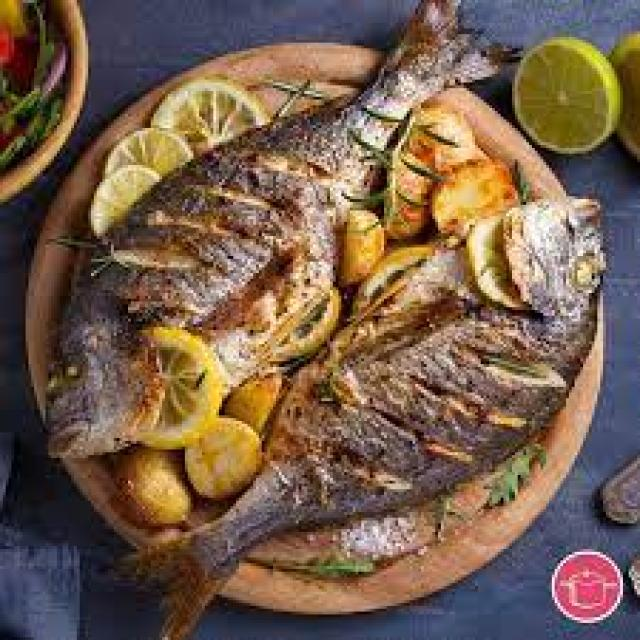Peixe: (40, 0, 609, 637)
